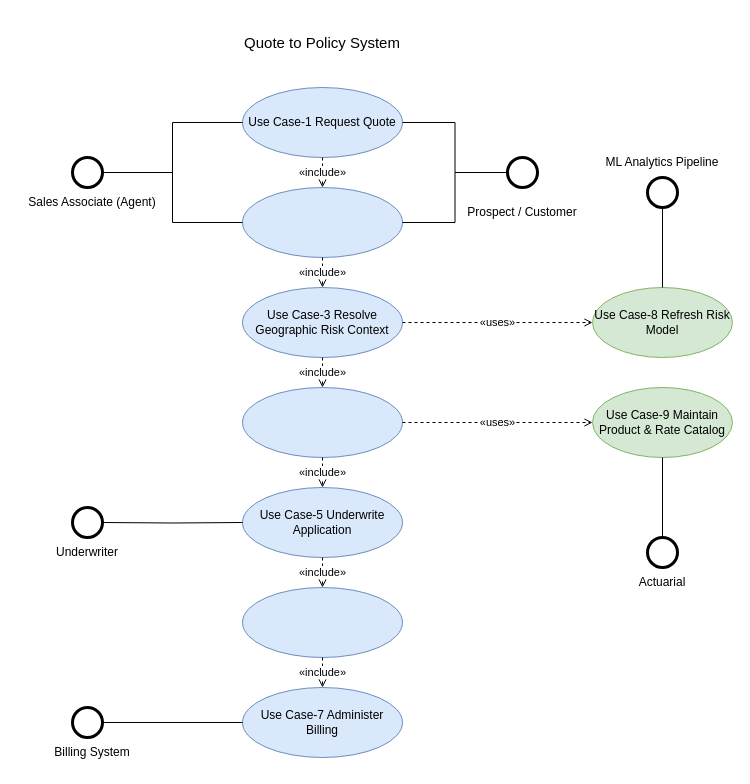
Image size: 750x784. Some labels were removed from this diagram. The centre of each missing label's shape, as x and y in pixels:
"Use Case-2 Capture Applicant Details" goes at [322,222].
"Use Case-4 Rate & Price Policy" goes at [322,422].
"Use Case-6 Issue Policy" goes at [322,622].
